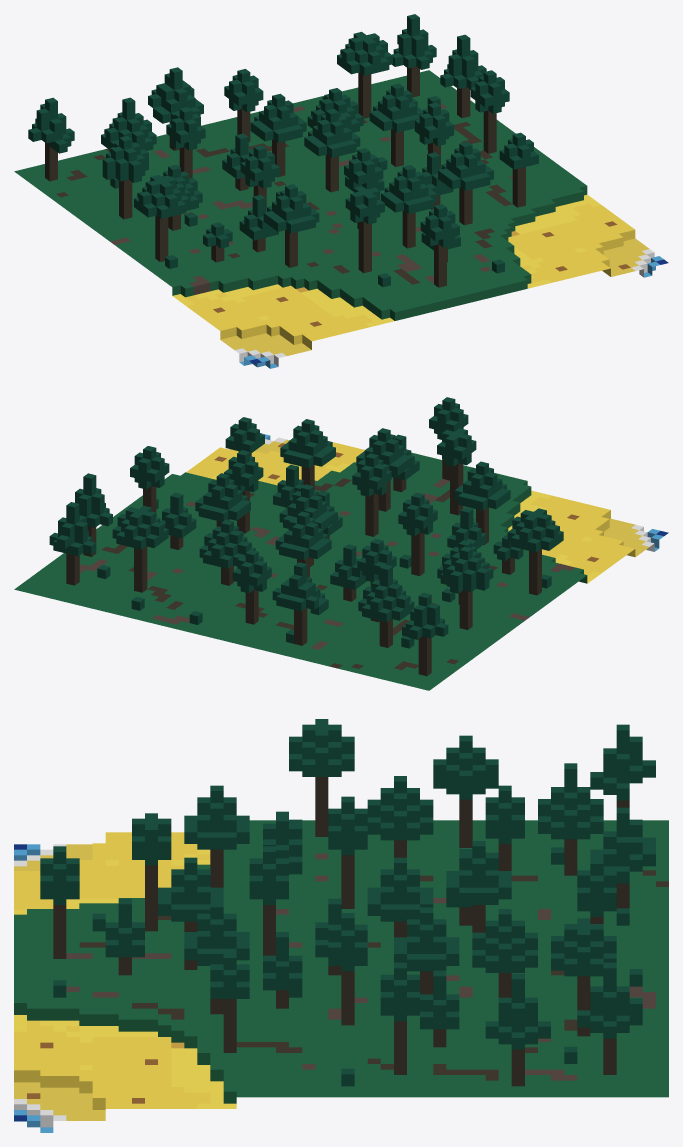
Rendered from 2corner.obj.
3 renders of one model, top to bottom at view 1: azimuth 30°, elevation 25°; view 2: azimuth 150°, elevation 25°; view 3: azimuth 270°, elevation 25°, orthographic. The views are drawn at different scales.
Parts seen in each view (by area): view 1: Untitled.003; view 2: Untitled.003; view 3: Untitled.003.
Boxes of the visible parts, x1,y1,x2,y2 form: Untitled.003: (14,14,668,368); Untitled.003: (14,397,668,690); Untitled.003: (14,719,668,1132).
Size of the model in its own units: 5 by 1.2 by 5.
Materials: 1 (1 with a texture image).
